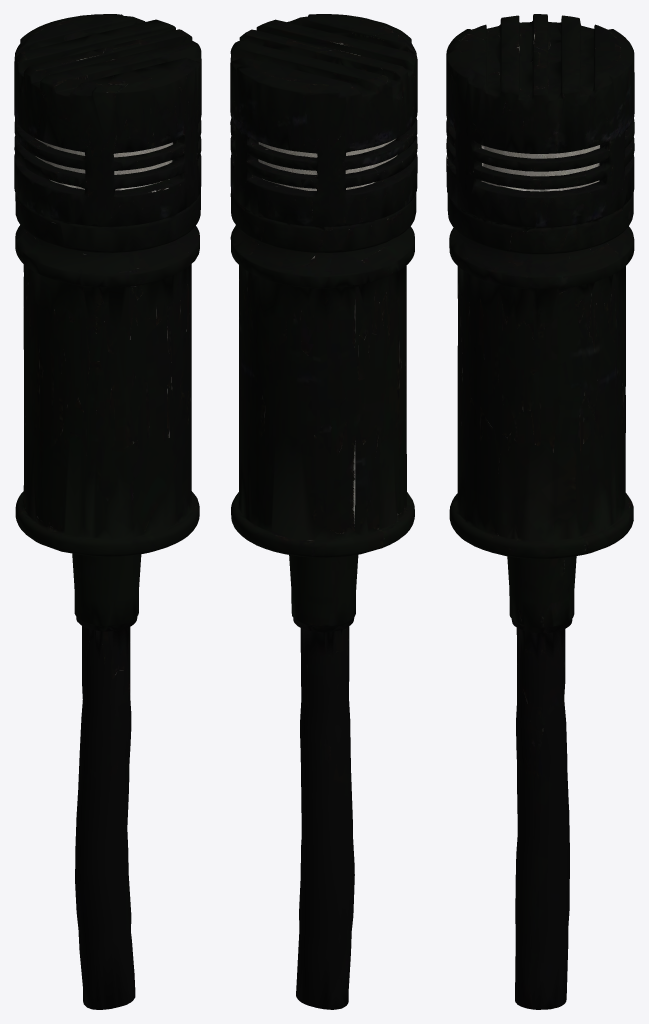
File: Audio Technica ATM350a.lite.glb
The picture shows the model from 3 angles, left to right: view 1: azimuth 30°, elevation 25°; view 2: azimuth 150°, elevation 25°; view 3: azimuth 270°, elevation 25°; orthographic projection.
Visible parts, largest first — view 1: geometry_0; view 2: geometry_0; view 3: geometry_0.
Part boxes in pixels (x1,y1,x2,y2): geometry_0: (14, 14, 201, 1009); geometry_0: (230, 14, 417, 1009); geometry_0: (446, 14, 634, 1009).
Bounding box in the file's own units: 0.3572 × 2 × 0.3583.
1 material, 1 textured.
